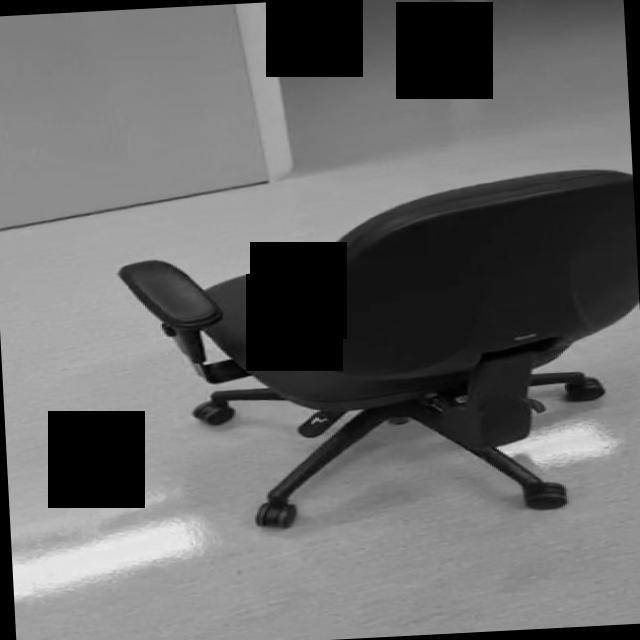chair: (113, 166, 640, 534)
